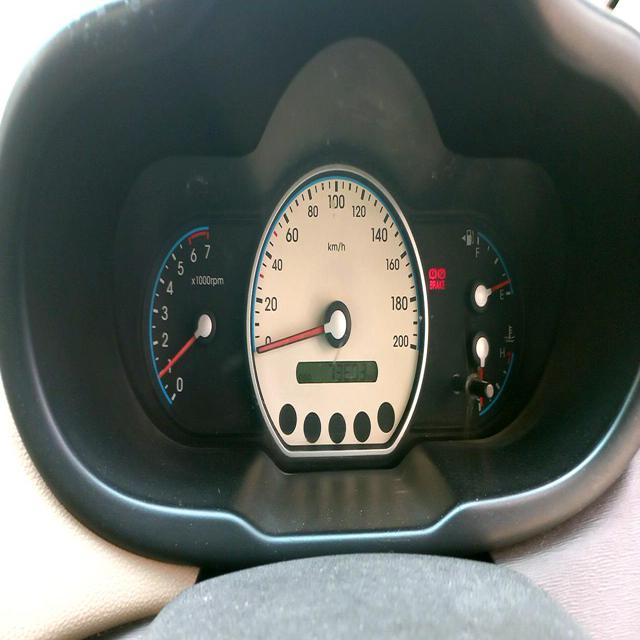odometer: (328, 361, 369, 382)
